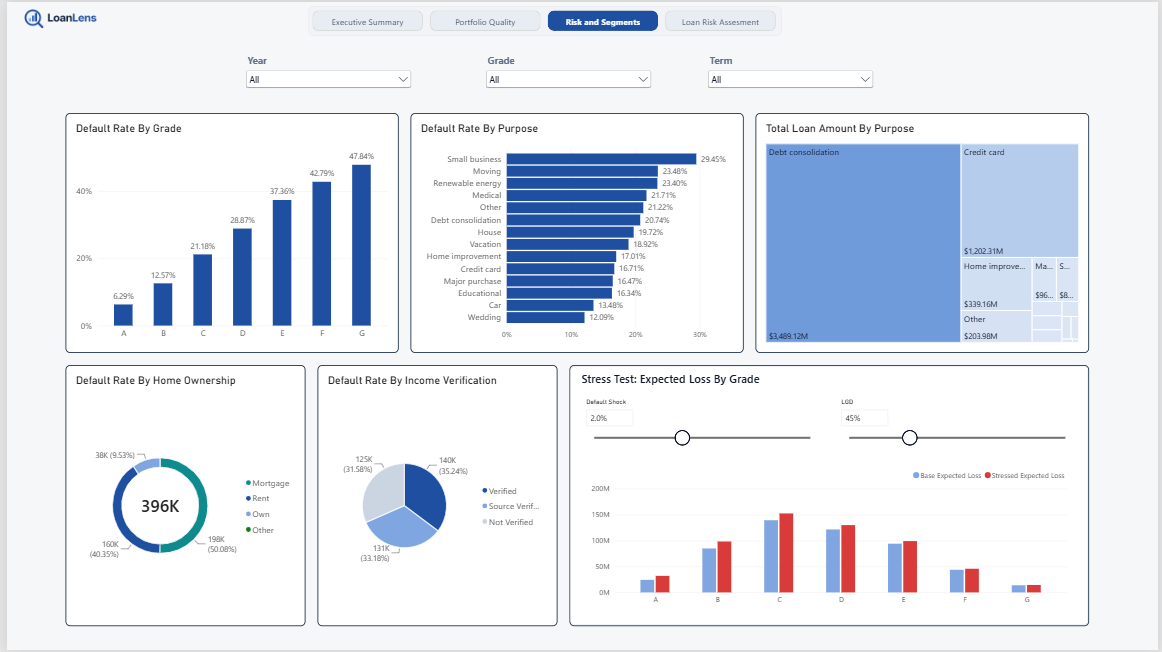

Layout of this report page (visuals, bound fields, positions):
{"tool":"powerbi","page":{"name":"Risk and Segments","canvas":[1920,1080],"ordinal":2},"visuals":[{"type":"shape","box":[937,605,866,435],"z":0},{"type":"pageNavigator","title":"Execut","box":[501.7,8.3,788.6,48.6],"z":1000},{"type":"image","box":[16,8,152,40],"z":2000},{"type":"slicer","fields":{"Values":["dim_date.year"]},"box":[384.3,78.6,301.4,82.9],"z":3000},{"type":"slicer","fields":{"Values":["dim_grade.credit_grade"]},"box":[785.7,78.6,301.4,85.7],"z":4000},{"type":"slicer","fields":{"Values":["dim_term.term_label"]},"box":[1154.3,78.6,301.4,107.1],"z":5000},{"type":"clusteredColumnChart","title":"Default Rate By Grade","fields":{"Category":["dim_grade.credit_grade"],"Y":["_Measures.Default Rate"]},"box":[97,185.8,555,400],"z":6000},{"type":"clusteredBarChart","title":"Default Rate By Purpose","fields":{"Category":["dim_purpose.purpose_name"],"Y":["_Measures.Default Rate"]},"box":[672,185,555,400],"z":7000},{"type":"treemap","title":"Total Loan Amount By Purpose","fields":{"Group":["dim_purpose.purpose_name"],"Values":["_Measures.Total Loan Amount"]},"box":[1247,184.5,556.2,400],"z":8000},{"type":"donutChart","title":"Default Rate By Home Ownership","fields":{"Category":["dim_home_ownership.home_ownership_name"],"Y":["_Measures.Loan Count"]},"box":[97,605,400,435],"z":9000},{"type":"pieChart","title":"Default Rate By Income Verification","fields":{"Category":["dim_verification.verification_name"],"Y":["_Measures.Loan Count"]},"box":[517,605,400,435],"z":10000},{"type":"slicer","fields":{"Values":["Default Shock.Default Shock"]},"box":[957,660,400,84],"z":11000},{"type":"textbox","box":[957,615,500,32],"z":13000},{"type":"clusteredColumnChart","fields":{"Category":["dim_grade.credit_grade"],"Y":["_Measures.Base Expected Loss","_Measures.Stressed Expected Loss"]},"box":[957,760,826,265],"z":14000},{"type":"slicer","fields":{"Values":["LGD.LGD"]},"box":[1383,660,400,84],"z":14001}]}

Visuals, with their boxes in screenshot pixels (x1, y1, x2, y2), scaled from the page's 1920x1080 canvas onto the 1162x652 screenshot:
shape: region(567, 365, 1091, 628)
"Execut" pageNavigator: region(304, 5, 781, 34)
image: region(10, 5, 102, 29)
slicer - dim_date.year: region(233, 47, 415, 97)
slicer - dim_grade.credit_grade: region(476, 47, 658, 99)
slicer - dim_term.term_label: region(699, 47, 881, 112)
"Default Rate By Grade" clusteredColumnChart: region(59, 112, 395, 354)
"Default Rate By Purpose" clusteredBarChart: region(407, 112, 743, 353)
"Total Loan Amount By Purpose" treemap: region(755, 111, 1091, 353)
"Default Rate By Home Ownership" donutChart: region(59, 365, 301, 628)
"Default Rate By Income Verification" pieChart: region(313, 365, 555, 628)
slicer - Default Shock.Default Shock: region(579, 398, 821, 449)
textbox: region(579, 371, 882, 391)
clusteredColumnChart - dim_grade.credit_grade x _Measures.Base Expected Loss: region(579, 459, 1079, 619)
slicer - LGD.LGD: region(837, 398, 1079, 449)
